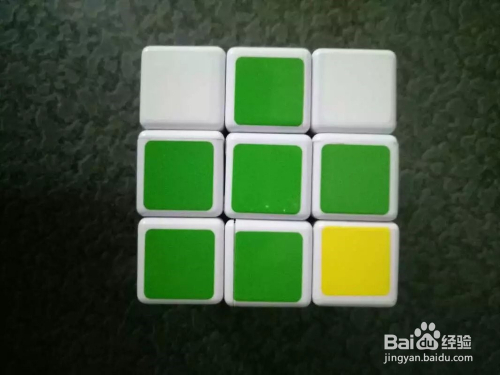cube: (114, 32, 436, 330)
